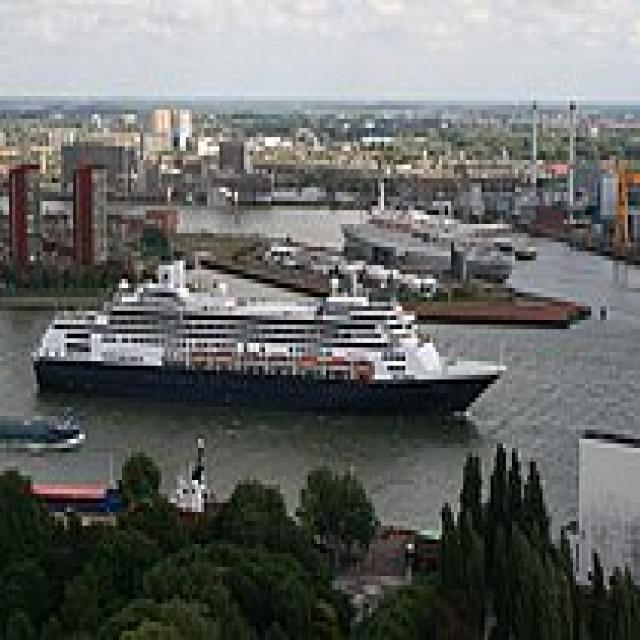Ship: (19, 225, 516, 440)
